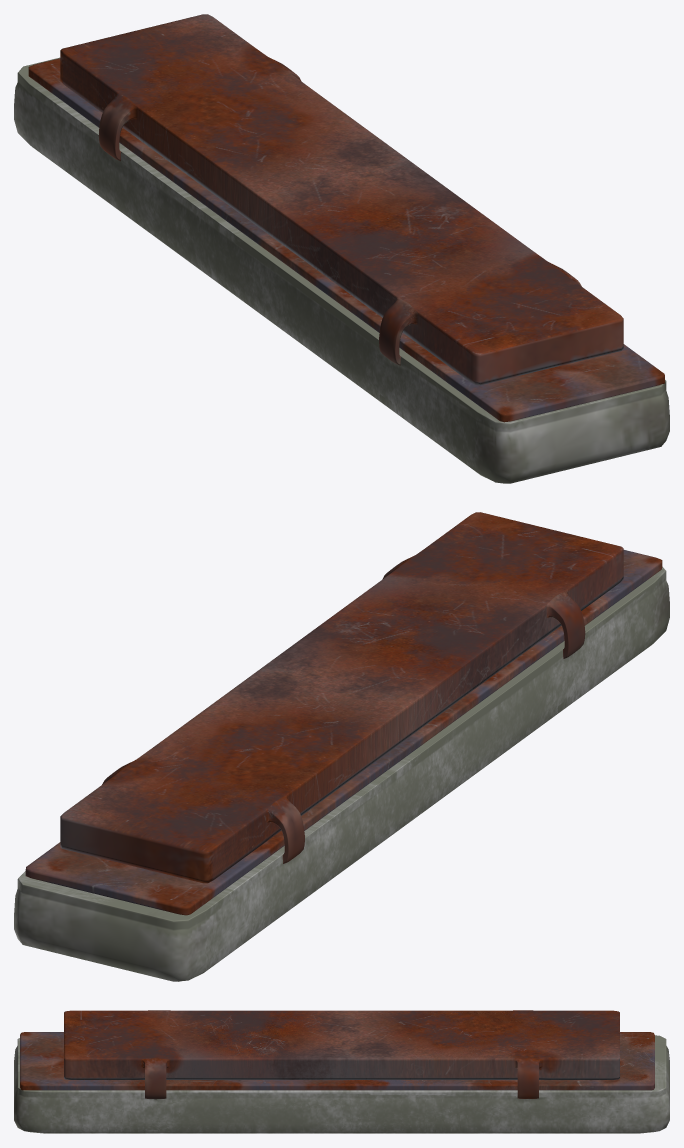
Rendered from new_light_txt_2.fbx.
The picture shows the model from 3 angles, top to bottom: view 1: azimuth 30°, elevation 25°; view 2: azimuth 150°, elevation 25°; view 3: azimuth 270°, elevation 25°; orthographic projection. The views are drawn at different scales.
Parts seen in each view (by area): view 1: polySurface14; view 2: polySurface14; view 3: polySurface14.
Boxes of the visible parts, box(x1,y1,x2,y2) form: polySurface14: box(14, 14, 669, 483); polySurface14: box(14, 512, 669, 981); polySurface14: box(14, 1010, 669, 1133).
Bounding box in the file's own units: 3.19 × 1.73 × 14.25.
Materials: 6 (5 with a texture image).
